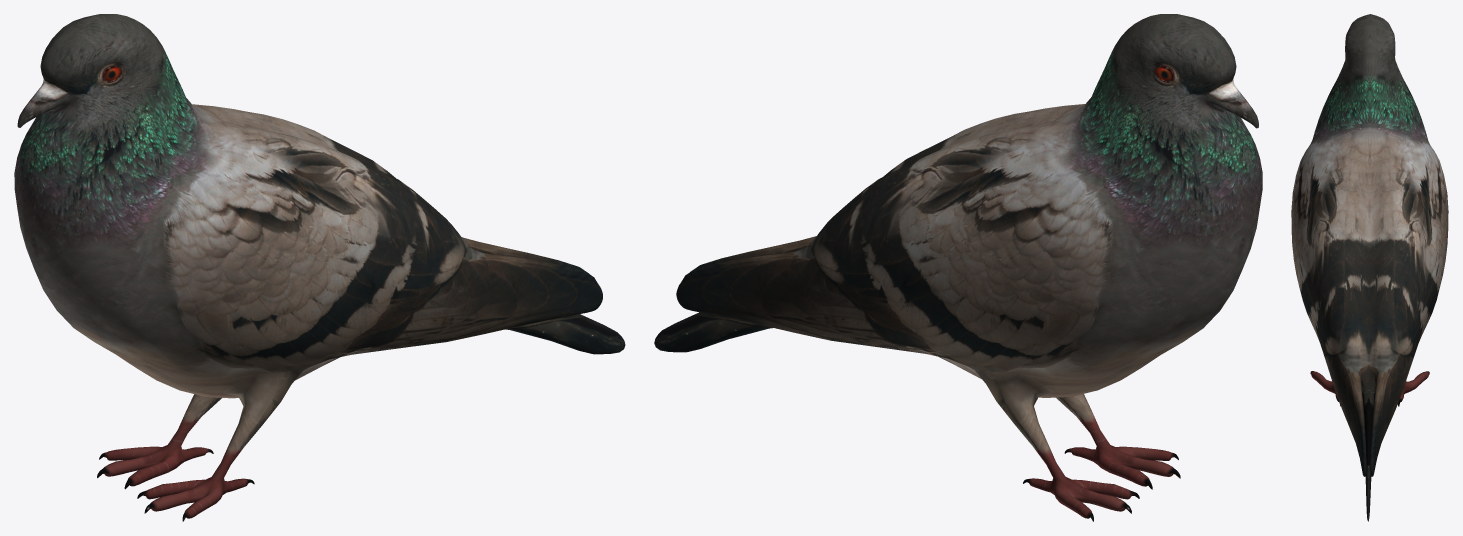
3 views of the same model, side by side, from view 1: azimuth 30°, elevation 25°; view 2: azimuth 150°, elevation 25°; view 3: azimuth 270°, elevation 25° (orthographic). The views are drawn at different scales.
Parts seen in each view (by area): view 1: _008_Vray; view 2: _008_Vray; view 3: _008_Vray.
Boxes of the visible parts, box(x1,y1,x2,y2) form: _008_Vray: box(14, 14, 625, 521); _008_Vray: box(654, 14, 1262, 521); _008_Vray: box(1291, 14, 1448, 521).
Size of the model in its own units: 3.92 by 1.25 by 3.01.
